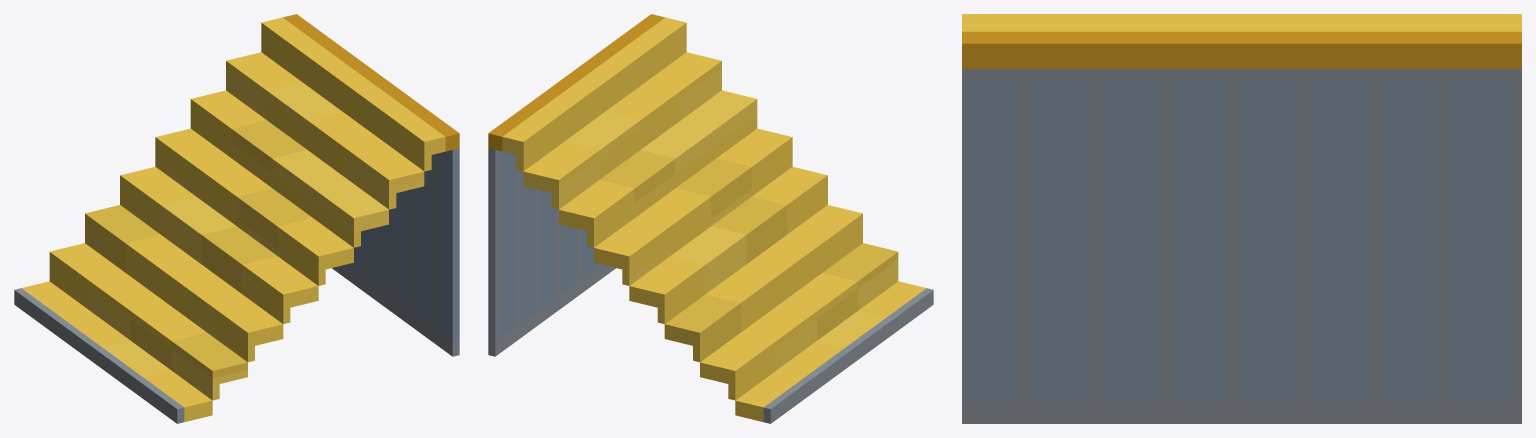
File: ws_roof_bay.glb
3 views of the same model, side by side, from view 1: azimuth 30°, elevation 25°; view 2: azimuth 150°, elevation 25°; view 3: azimuth 270°, elevation 25° (orthographic). The views are drawn at different scales.
Visible parts, largest first — view 1: roof; view 2: roof; view 3: roof.
Boxes of the visible parts, x1=… form: roof: x1=14, y1=14, x2=459, y2=423; roof: x1=488, y1=14, x2=933, y2=423; roof: x1=962, y1=14, x2=1521, y2=423.
Bounding box in the file's own units: 4 × 3 × 4.
